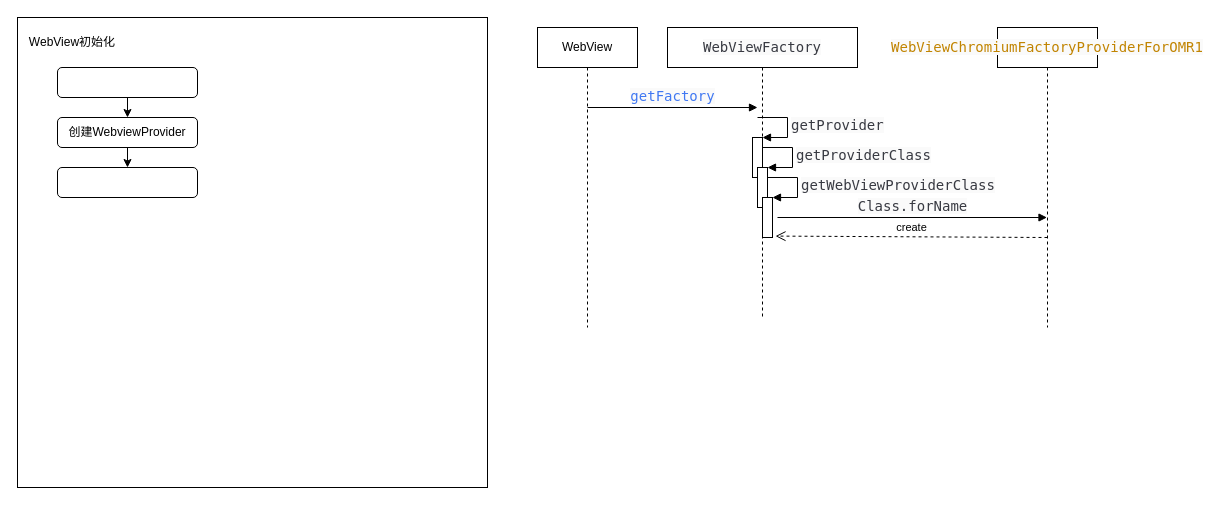
Image size: 1221x505. Some labels were removed from this diagram. The centre of each missing label's shape, as x and y in pixels:
初始化WebViewProvider: [127,182]
线程检查: [127,82]
